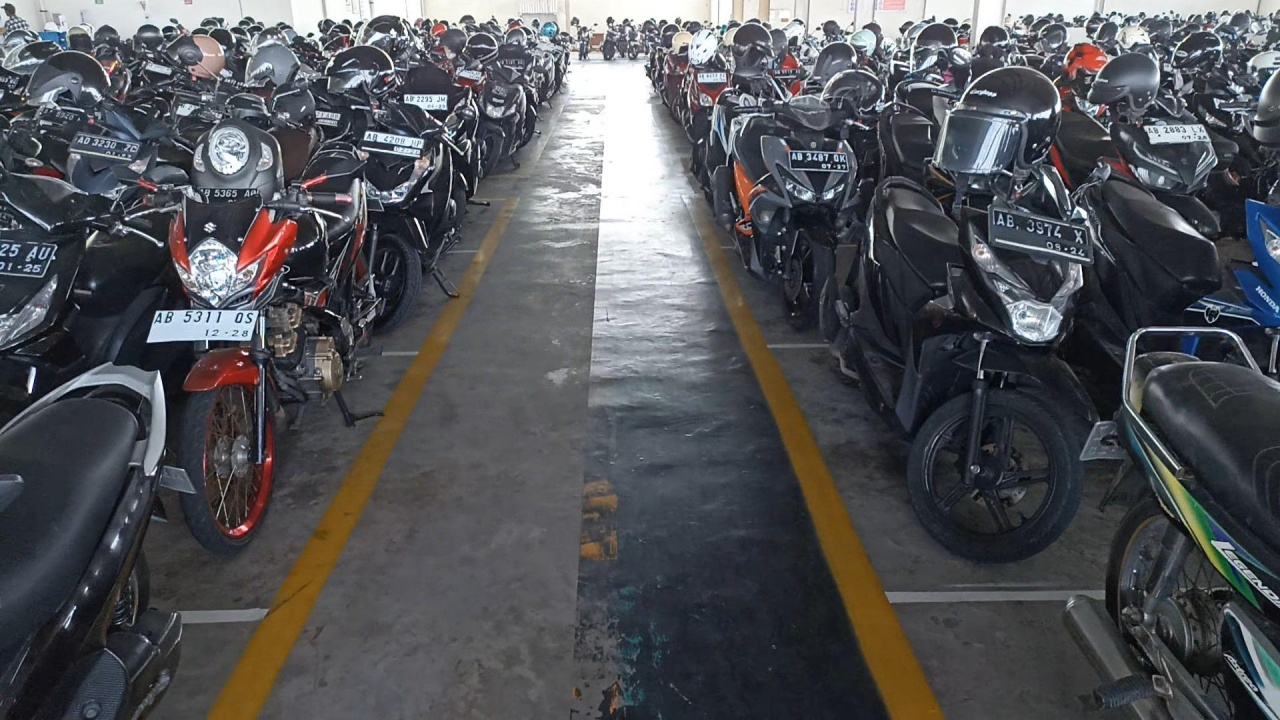plate: (991, 206, 1093, 265), (146, 310, 259, 343), (68, 132, 141, 162), (359, 130, 425, 158), (1142, 124, 1211, 145), (790, 151, 848, 171)
